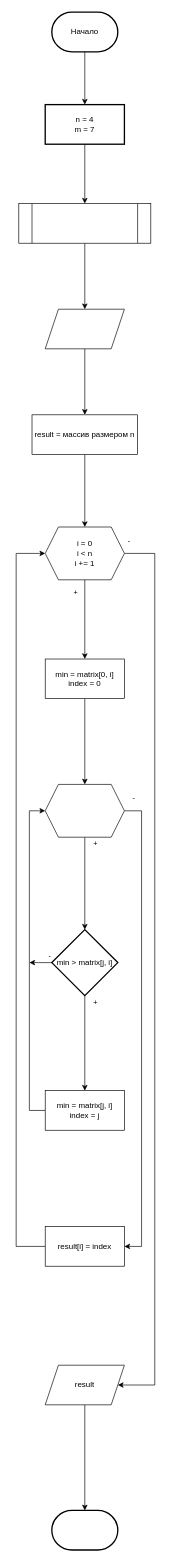
Image size: 172x1562. Some labels were removed from this diagram. Each missing label, with the centre of its shape:
j = 0 j < m j += 1: (x=84, y=810)
matrix: (x=84, y=329)
matrix = RandomMatrix(n,m): (x=84, y=223)
Конец: (x=84, y=1529)
